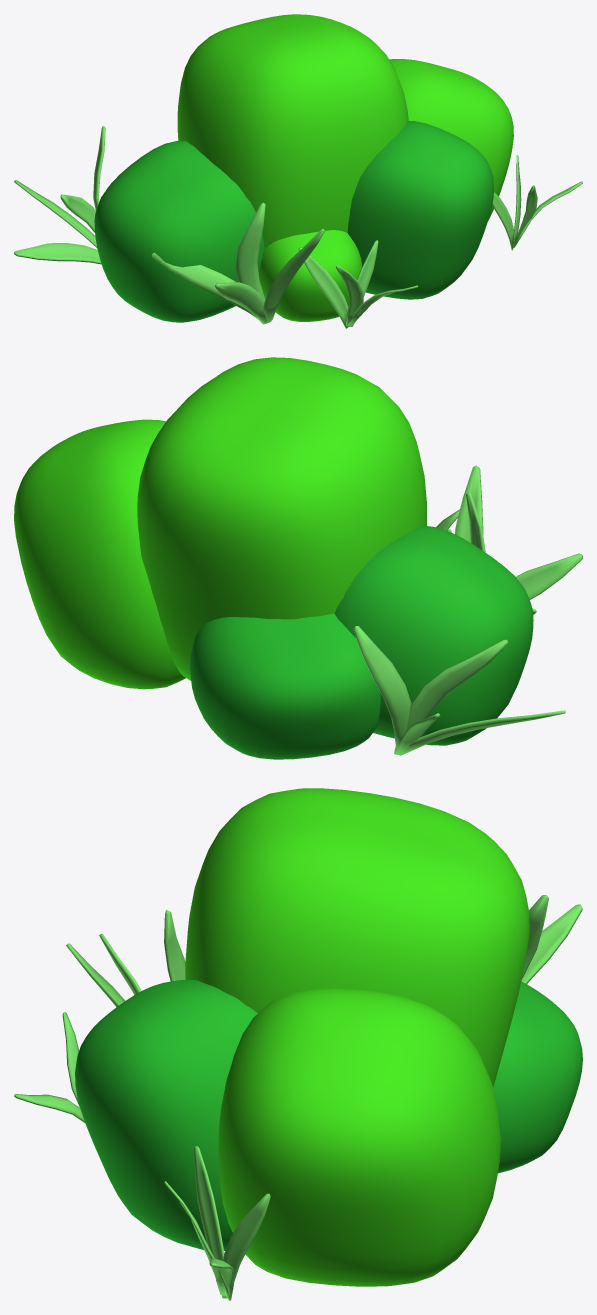
Rendered from SmallShrub.glb.
The picture shows the model from 3 angles, top to bottom: view 1: azimuth 30°, elevation 25°; view 2: azimuth 150°, elevation 25°; view 3: azimuth 270°, elevation 25°; orthographic projection. The views are drawn at different scales.
Parts seen in each view (by area): view 1: Cube, Plane.002, Plane.001, Plane.003, Plane.004; view 2: Cube, Plane.001, Plane.002; view 3: Cube, Plane.004, Plane.001, Plane.002, Plane.003.
Boxes of the visible parts, x1,y1,x2,y2 form: Cube: (94,14,513,322); Plane.002: (151,202,324,324); Plane.001: (14,126,105,264); Plane.003: (298,240,418,328); Plane.004: (492,155,582,250); Cube: (14,357,533,759); Plane.001: (353,626,565,755); Plane.002: (455,465,582,614); Cube: (75,788,582,1286); Plane.004: (164,1146,270,1300); Plane.001: (521,895,582,983); Plane.002: (66,910,185,1007); Plane.003: (14,1012,84,1122).
Bounding box in the file's own units: 7.64 × 3.6 × 5.01.
